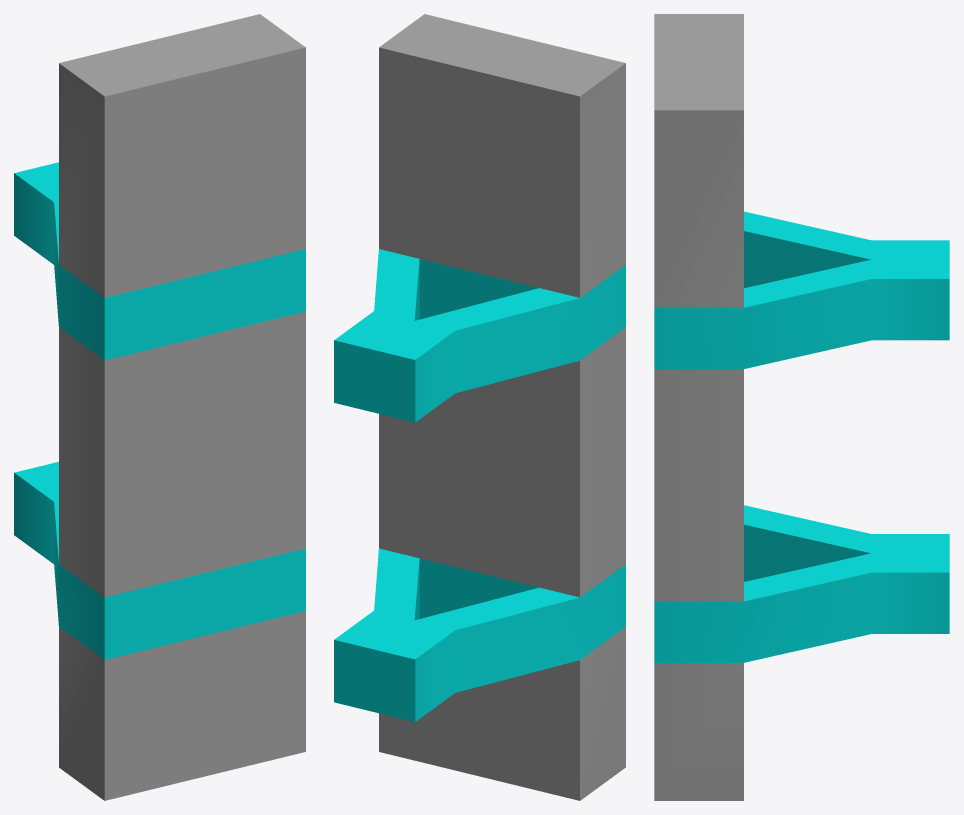
The model's file is TorchHolder.fbx.
3 views of the same model, side by side, from view 1: azimuth 30°, elevation 25°; view 2: azimuth 150°, elevation 25°; view 3: azimuth 270°, elevation 25° (orthographic).
Parts seen in each view (by area): view 1: TorchHolder; view 2: TorchHolder; view 3: TorchHolder.
Part boxes in pixels (bbox=[...]): TorchHolder: bbox=[14, 14, 305, 800]; TorchHolder: bbox=[334, 14, 625, 800]; TorchHolder: bbox=[654, 14, 949, 800].
Bounding box in the file's own units: 1.16 × 3.87 × 1.5.
